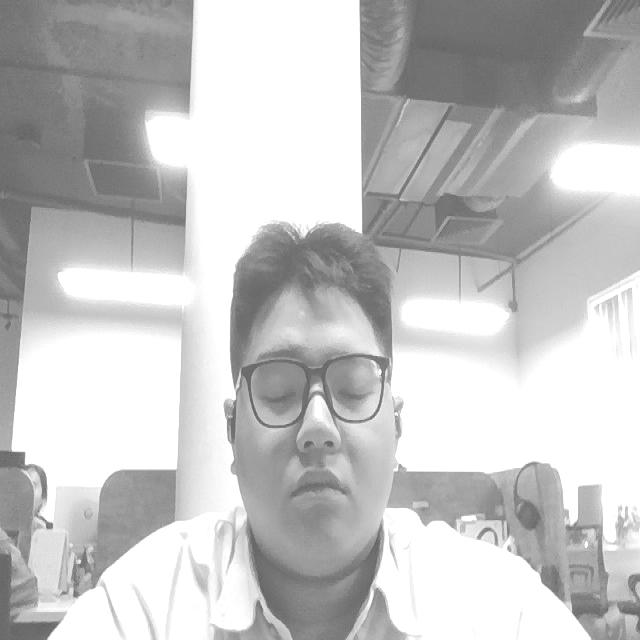real: (223, 210, 407, 583), (248, 365, 389, 420)
